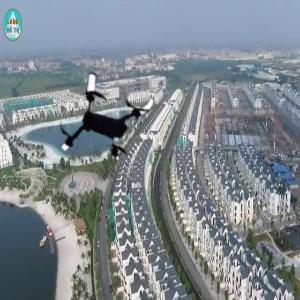drone: (52, 62, 160, 170)
